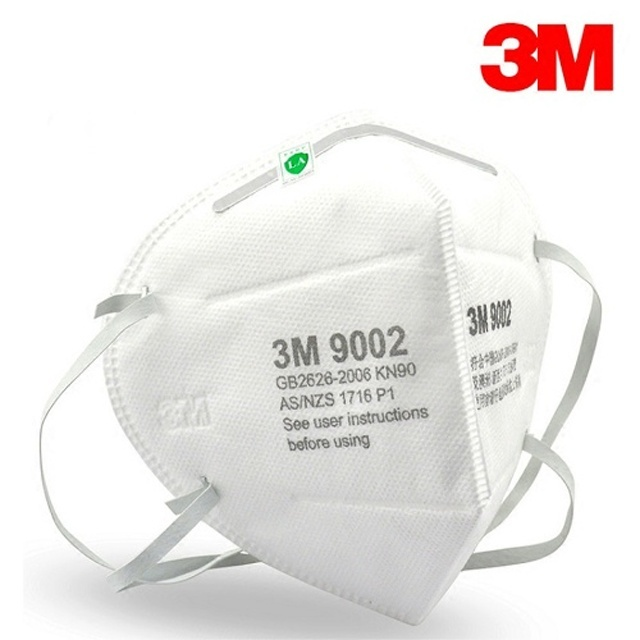mask: (34, 122, 606, 628)
